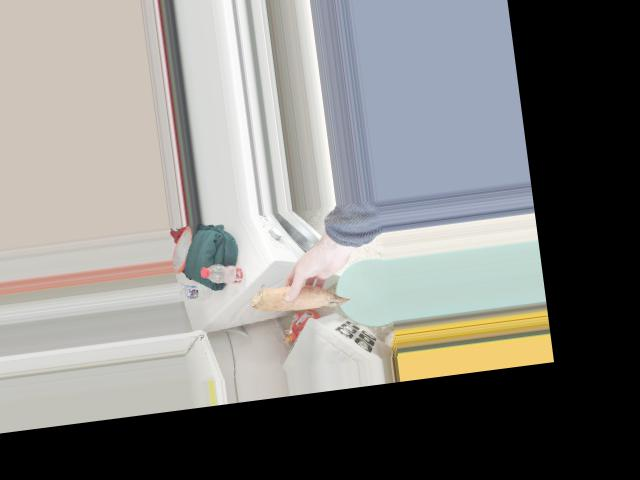sweet_potato: (257, 272, 348, 314)
